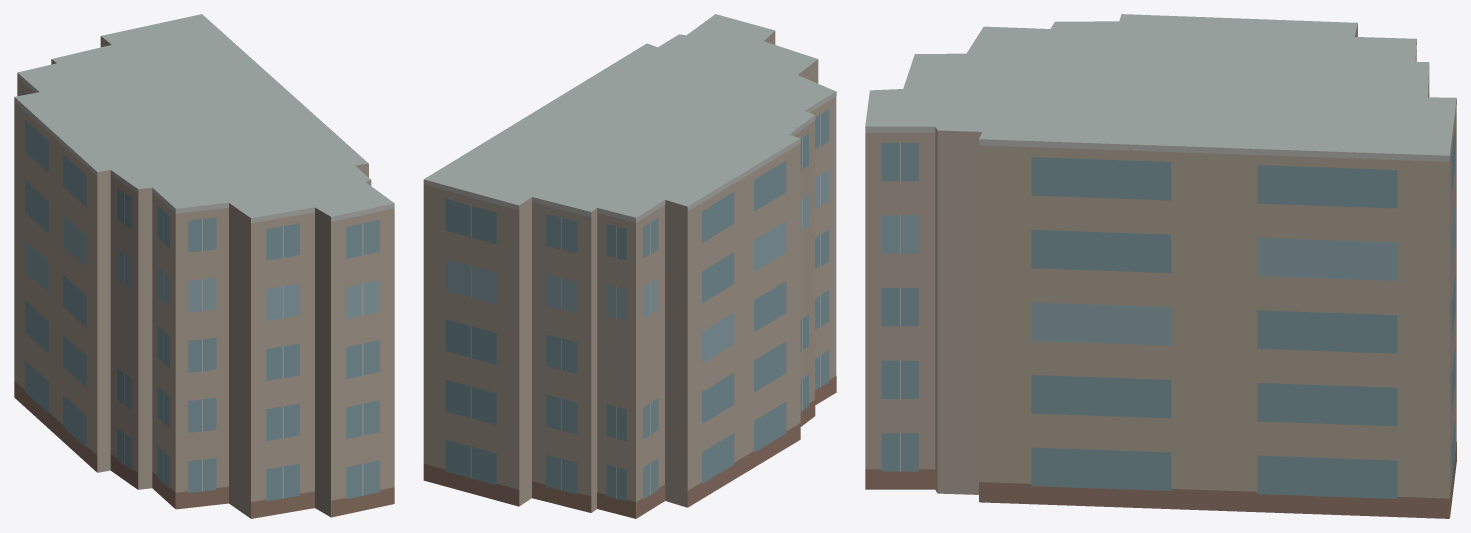
Rendered from survey-upis-32524381.glb.
The picture shows the model from 3 angles, left to right: view 1: azimuth 30°, elevation 25°; view 2: azimuth 150°, elevation 25°; view 3: azimuth 270°, elevation 25°; orthographic projection. The views are drawn at different scales.
Parts seen in each view (by area): view 1: survey-upis-32524381.tmp; view 2: survey-upis-32524381.tmp; view 3: survey-upis-32524381.tmp.
Part boxes in pixels (x1,y1,x2,y2): survey-upis-32524381.tmp: [14, 14, 394, 518]; survey-upis-32524381.tmp: [423, 14, 836, 518]; survey-upis-32524381.tmp: [865, 14, 1456, 518].
Bounding box in the file's own units: 12.19 × 14.55 × 21.49.
